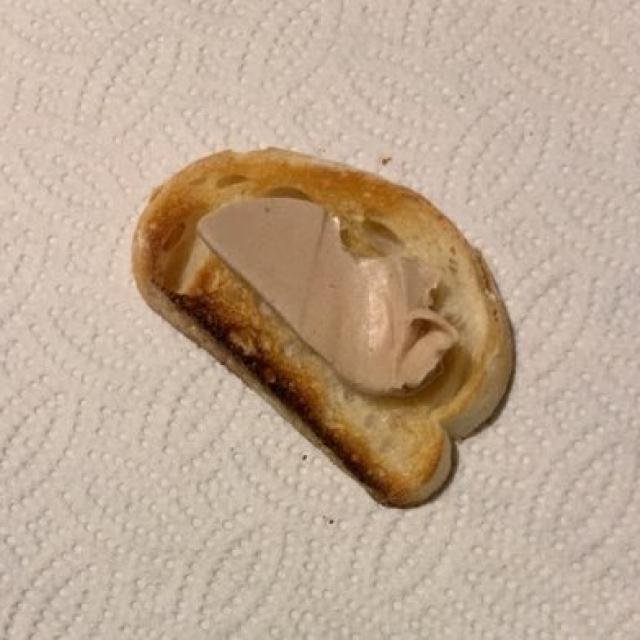bread: (141, 165, 505, 503)
meat-terrine-pate: (185, 185, 462, 407)
